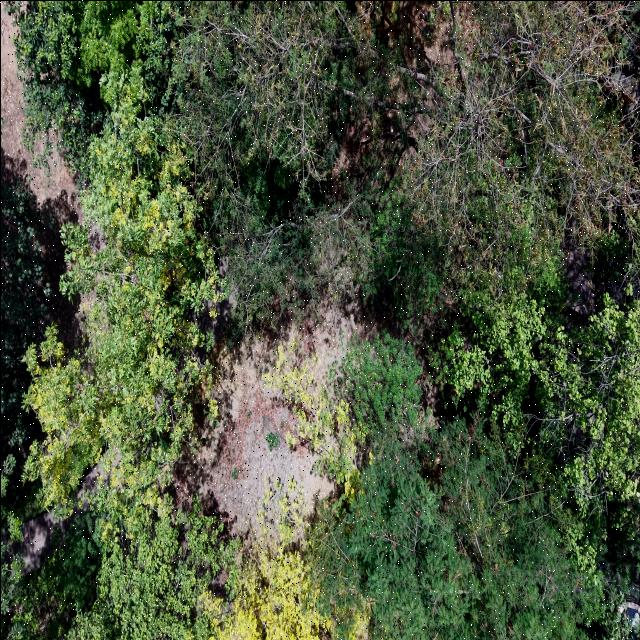DRY_AREA: (174, 295, 421, 536), (174, 297, 396, 536), (175, 294, 396, 532), (176, 296, 395, 531), (174, 299, 386, 534), (174, 299, 372, 535), (175, 304, 357, 535), (174, 336, 334, 538), (174, 341, 334, 537), (175, 335, 333, 532), (175, 338, 333, 534), (1, 3, 81, 344), (1, 4, 80, 341), (1, 4, 80, 340), (329, 1, 457, 190), (176, 396, 333, 534), (1, 4, 79, 221), (1, 4, 79, 213), (1, 5, 76, 210), (13, 503, 86, 572), (381, 1, 456, 68), (15, 512, 67, 572), (564, 241, 595, 319)
VEGETATION_TREE: (1, 1, 639, 639), (18, 3, 638, 319), (175, 3, 639, 321), (16, 2, 219, 515), (312, 337, 590, 639), (25, 96, 219, 515), (403, 3, 639, 304), (441, 293, 639, 617), (174, 2, 344, 322), (4, 491, 323, 639), (5, 495, 234, 639), (8, 1, 175, 181), (1, 180, 52, 609), (204, 479, 327, 639), (1, 182, 50, 447), (3, 514, 100, 639)
